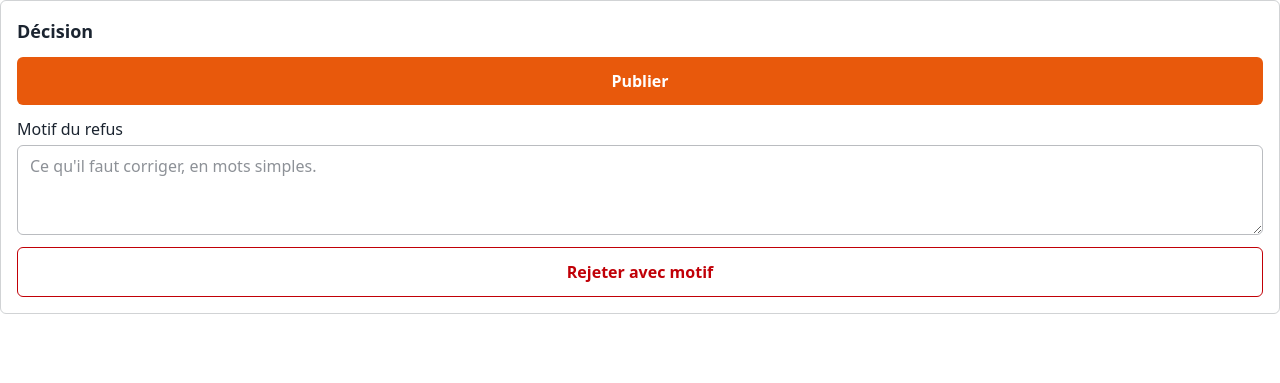
Test: ListingDecision › asks for the reason before rejecting
Click the button "Rejeter avec motif": (640, 272) [17,247,1263,297]
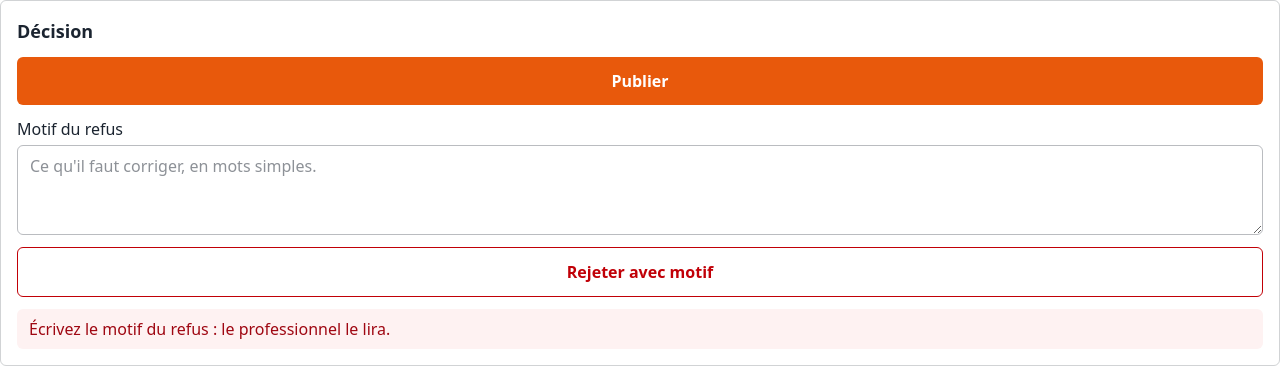
Result: the message shows "motif" at [29,318,390,340]
